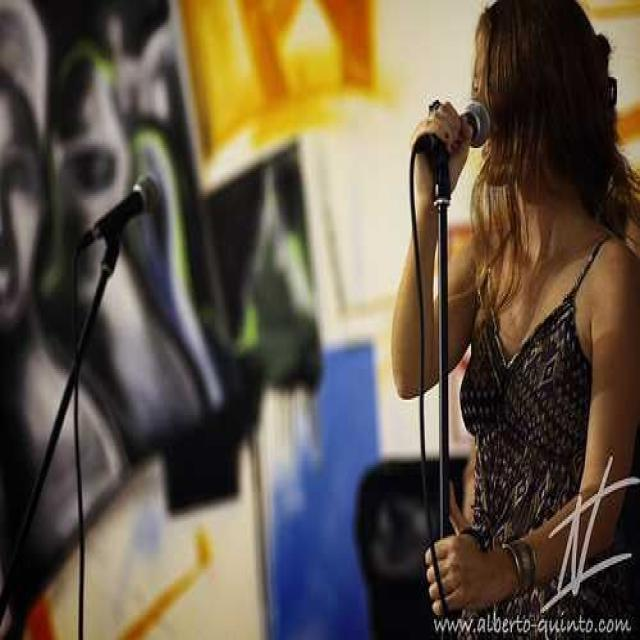microphone: (413, 92, 494, 174), (82, 176, 156, 253)
